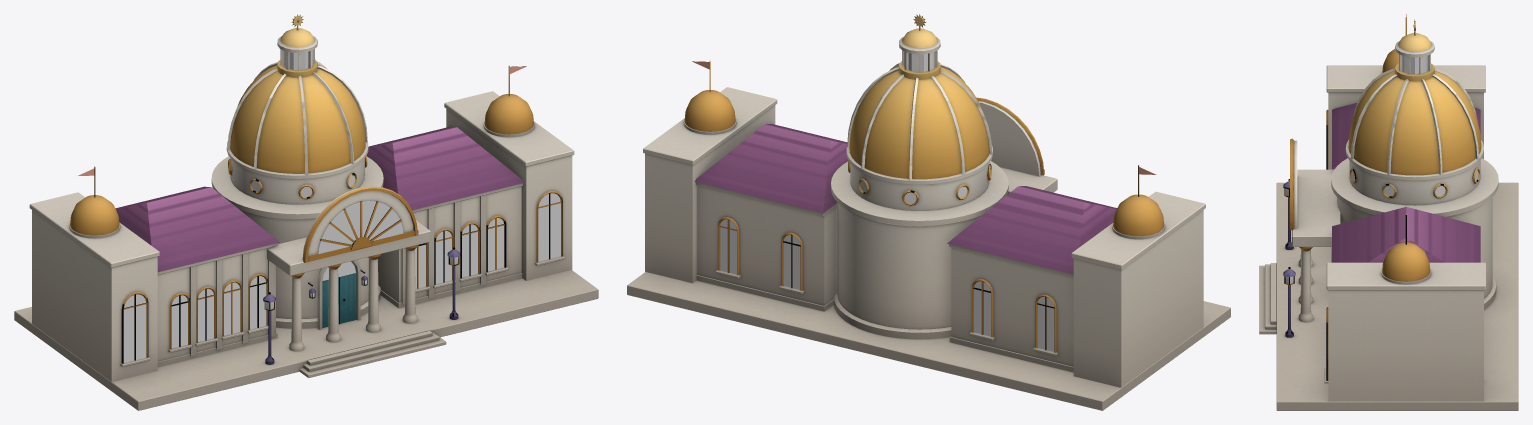
The model's file is dawn_station.fbx.
The picture shows the model from 3 angles, left to right: view 1: azimuth 30°, elevation 25°; view 2: azimuth 150°, elevation 25°; view 3: azimuth 270°, elevation 25°; orthographic projection. The views are drawn at different scales.
Parts seen in each view (by area): view 1: dawn_station, dawn_station_glow, dawn_station_sun_glow; view 2: dawn_station, dawn_station_glow; view 3: dawn_station, dawn_station_sun_glow, dawn_station_glow.
Part boxes in pixels (x1,y1,x2,y2): dawn_station: (14,14,598,410); dawn_station_glow: (124,164,560,362); dawn_station_sun_glow: (283,50,403,254); dawn_station: (627,14,1230,410); dawn_station_glow: (720,168,1054,351); dawn_station: (1259,14,1518,410); dawn_station_sun_glow: (1402,55,1427,74); dawn_station_glow: (1285,170,1478,283).
Bounding box in the file's own units: 6040 × 3600 × 3000.
Materials: 2 (1 with a texture image).
